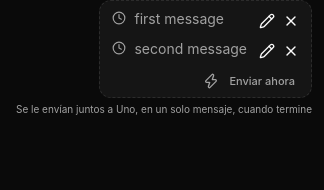
Test: QueuedMessages › pressing the edit button turns that line into a textarea prefilled with text and hides X
This screenshot has width=324, height=190.
Expected: the number of buttons named "No enviarlo" is 2, [279,9,303,33]; [279,39,303,63]
Step 1. Click the button named "Editar" next to "first message" → (267, 21), box [255,9,279,33]
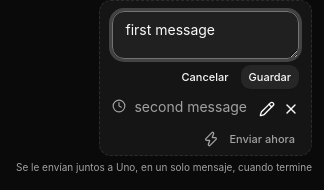
Expected: the text box holds "first message", [112,11,299,59]
Expected: the button "Guardar" is shown, [241,65,299,89]
Expected: the button "Cancelar" is shown, [174,65,236,89]
